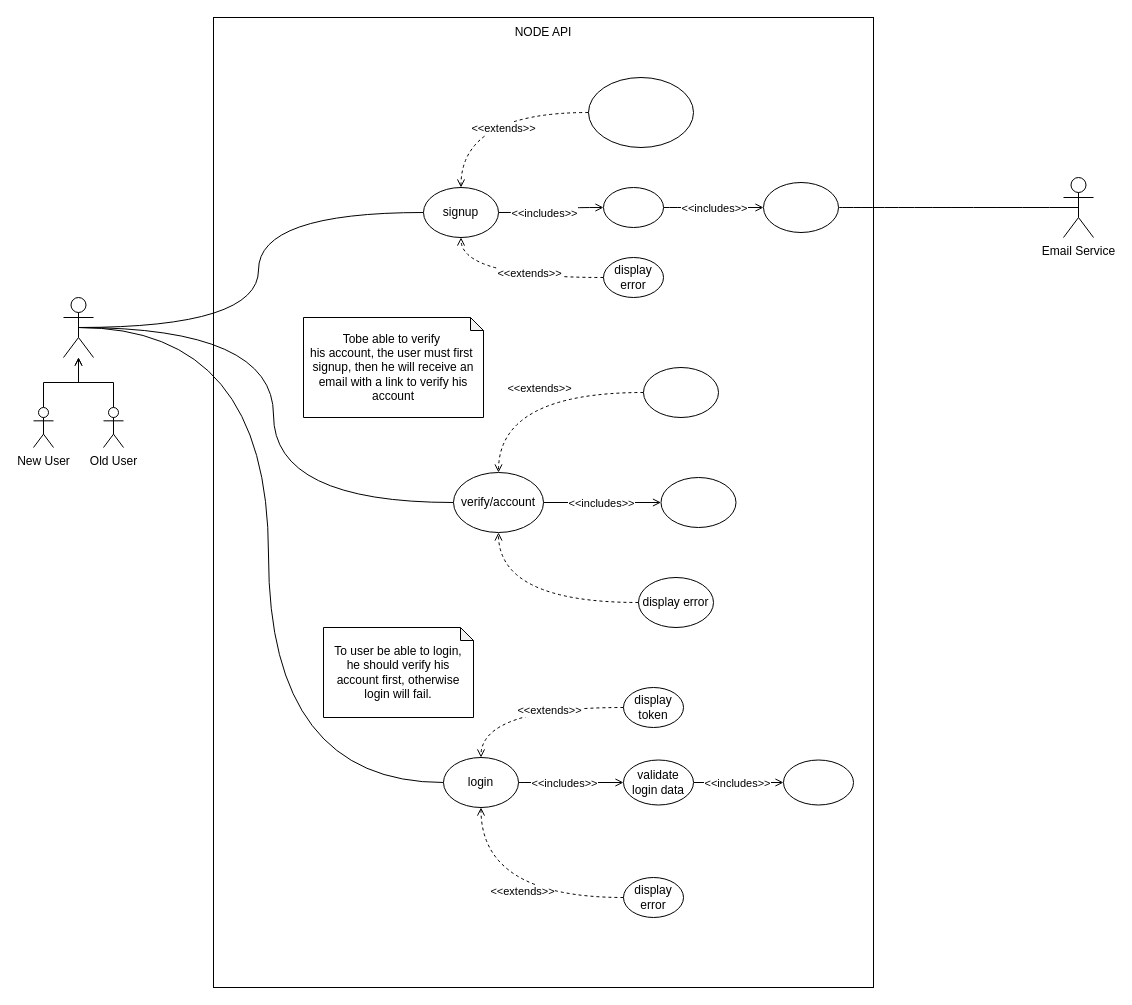
Some shapes in this 1132 by 1005 pixel diagram are drawn without their labels. The shapes that lost their labels are listed below. From the top down, each one's centre as x and y in pixels, then its label:
[641,112]: display account data (unverified)
[633,207]: validate data
[800,207]: confirm email
[680,392]: account verified
[698,502]: verify account
[818,782]: account is verified?
